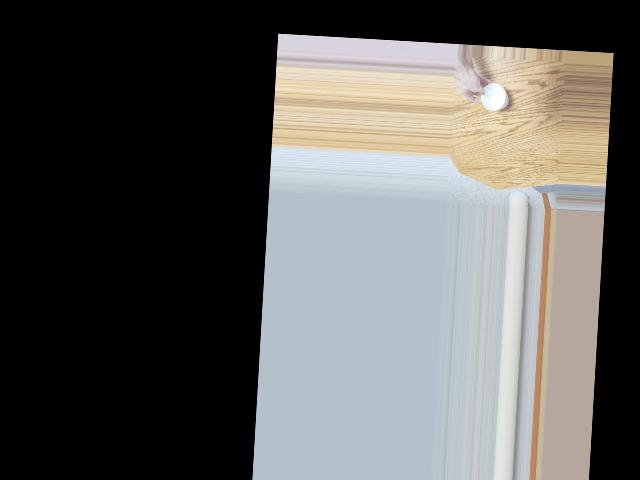cotage: (478, 82, 511, 116)
